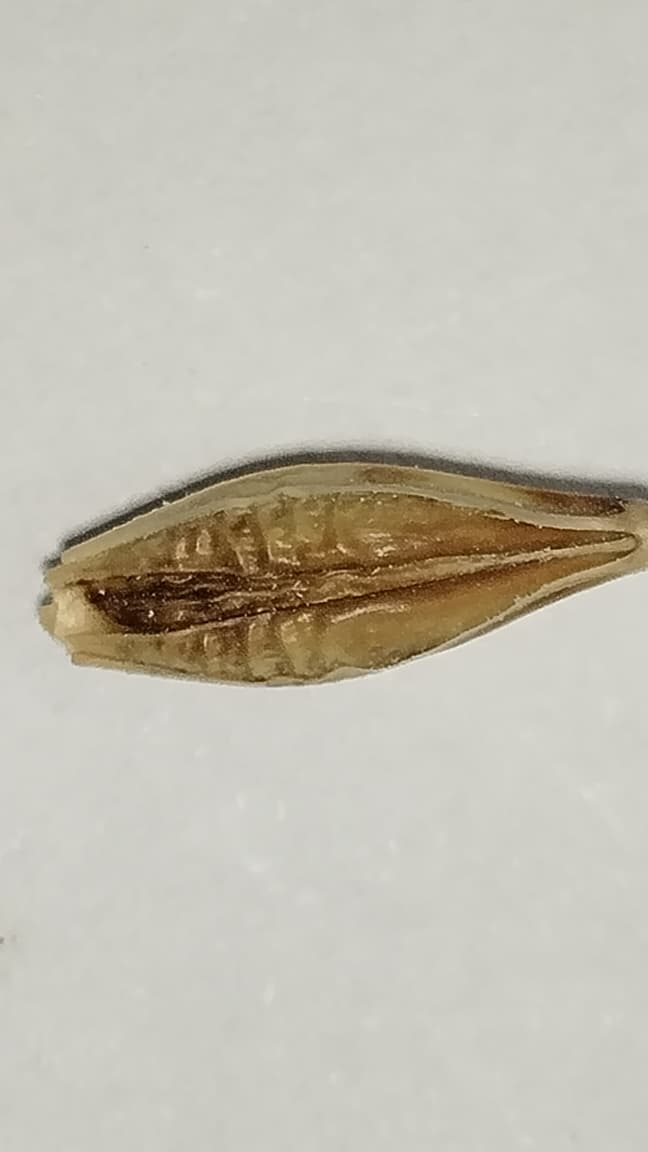healthy-70-60: (43, 463, 647, 684)
shriveledseed: (92, 502, 403, 662)
staindamage: (106, 569, 240, 634)
